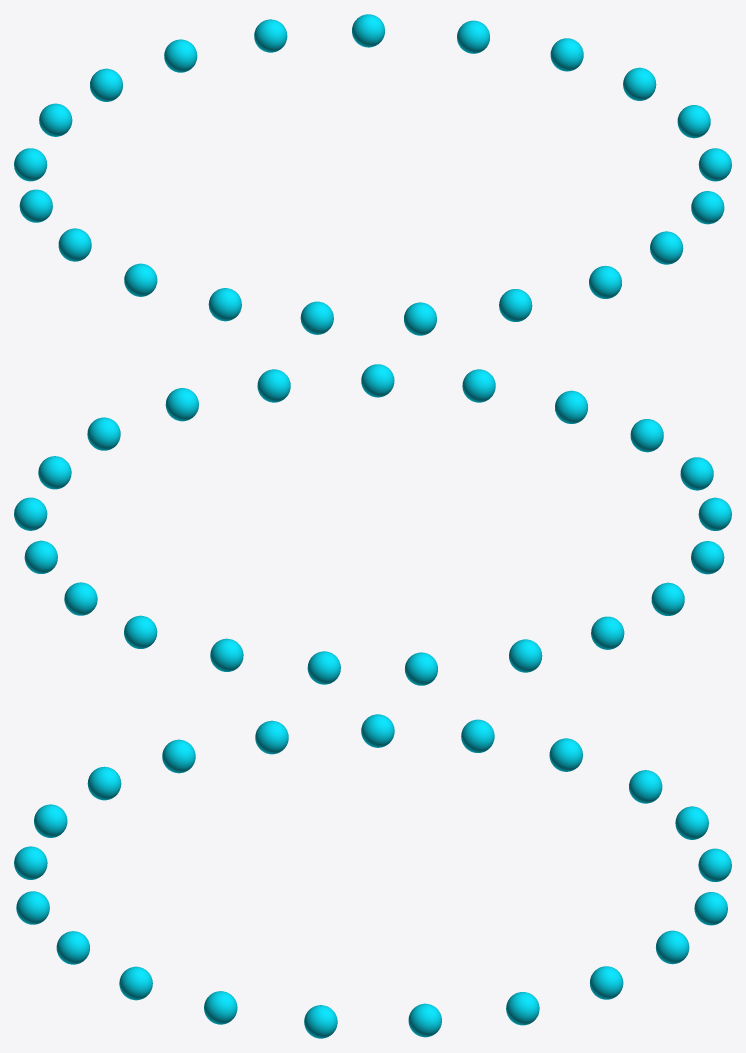
3 renders of one model, top to bottom at view 1: azimuth 30°, elevation 25°; view 2: azimuth 150°, elevation 25°; view 3: azimuth 270°, elevation 25°, orthographic.
Parts seen in each view (by area): view 1: Sphere050; view 2: Sphere050; view 3: Sphere050.
Boxes of the visible parts, left/top/right/bottom form: Sphere050: left=14, top=14, right=731, bottom=335; Sphere050: left=14, top=364, right=731, bottom=685; Sphere050: left=14, top=714, right=731, bottom=1038.
Size of the model in its own units: 177 by 8.22 by 176.
